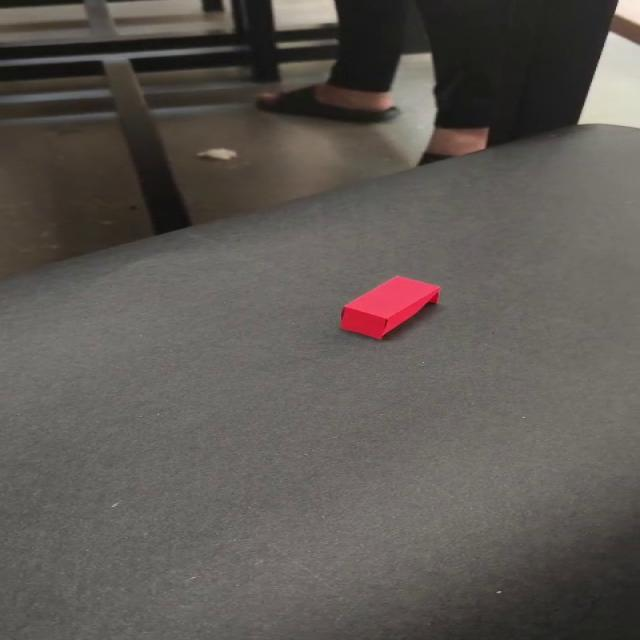red block: (339, 274, 441, 339)
